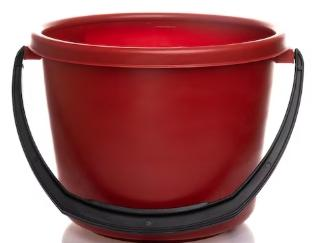SEAU: (0, 3, 333, 243)
